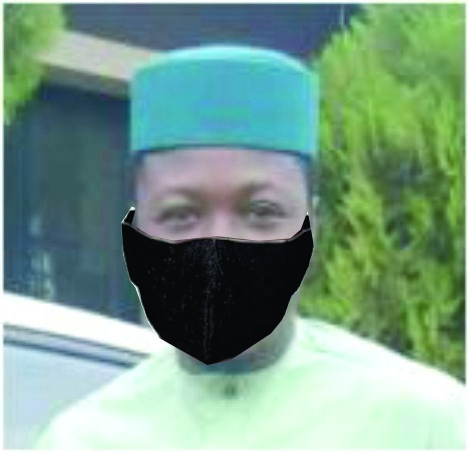with_facemask: (136, 246, 301, 371)
